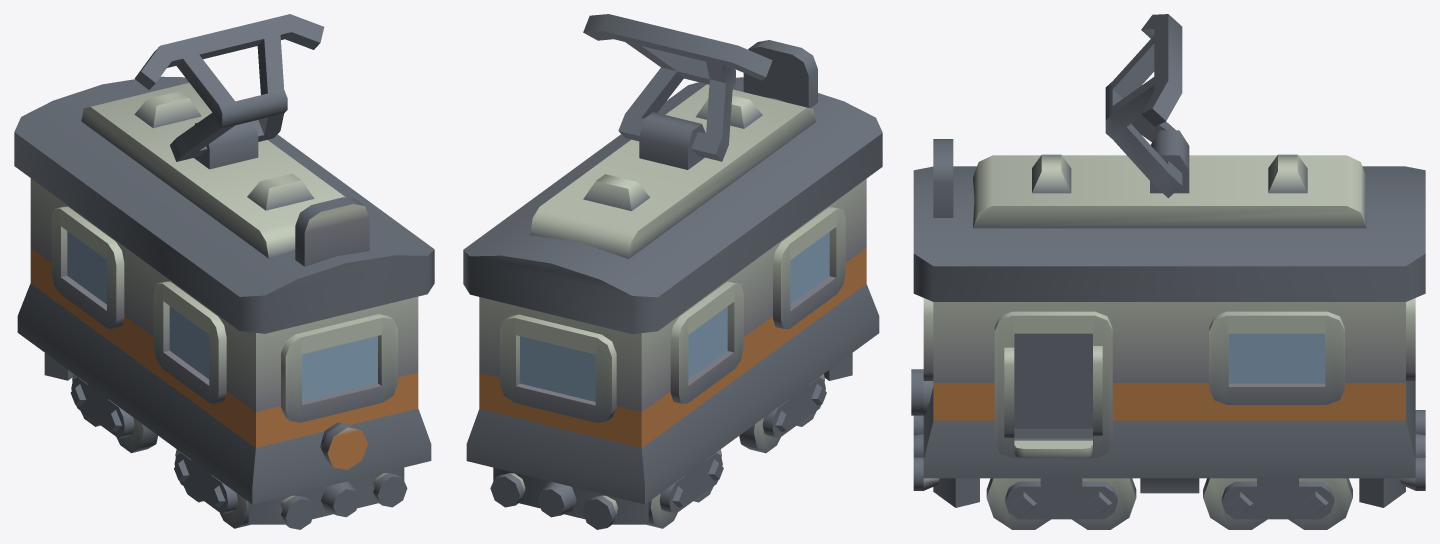
Rendered from tram.glb.
The picture shows the model from 3 angles, left to right: view 1: azimuth 30°, elevation 25°; view 2: azimuth 150°, elevation 25°; view 3: azimuth 270°, elevation 25°; orthographic projection. The views are drawn at different scales.
Parts seen in each view (by area): view 1: tram; view 2: tram; view 3: tram.
Boxes of the visible parts, x1,y1,x2,y2 form: tram: [14, 14, 434, 529]; tram: [463, 14, 882, 529]; tram: [911, 14, 1425, 529].
Size of the model in its own units: 0.4375 by 0.8817 by 0.9144.
